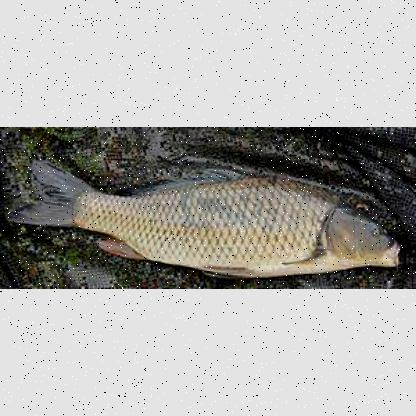ikan-mas: (17, 157, 401, 274)
